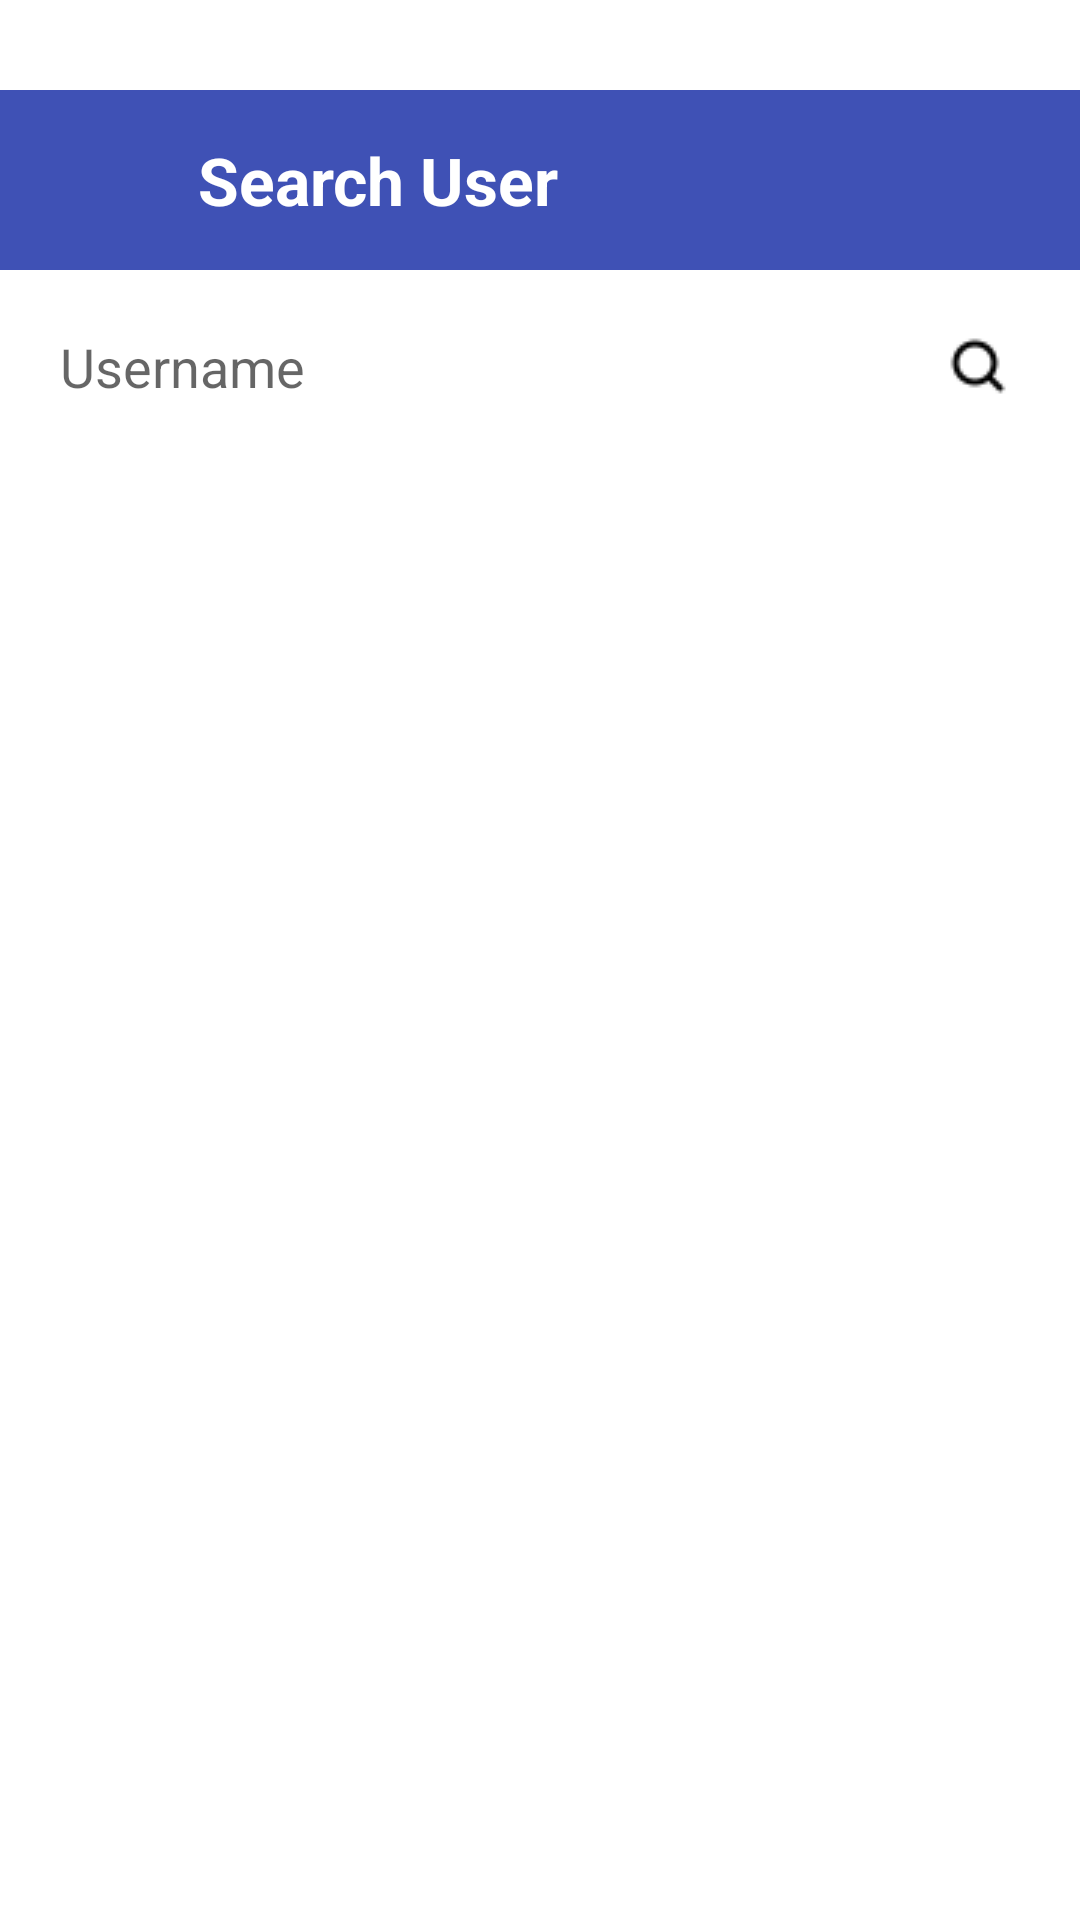

Named icons in this screenshot (1080px x 1920px) and their centers, [x,y]:
search: [978,366]
